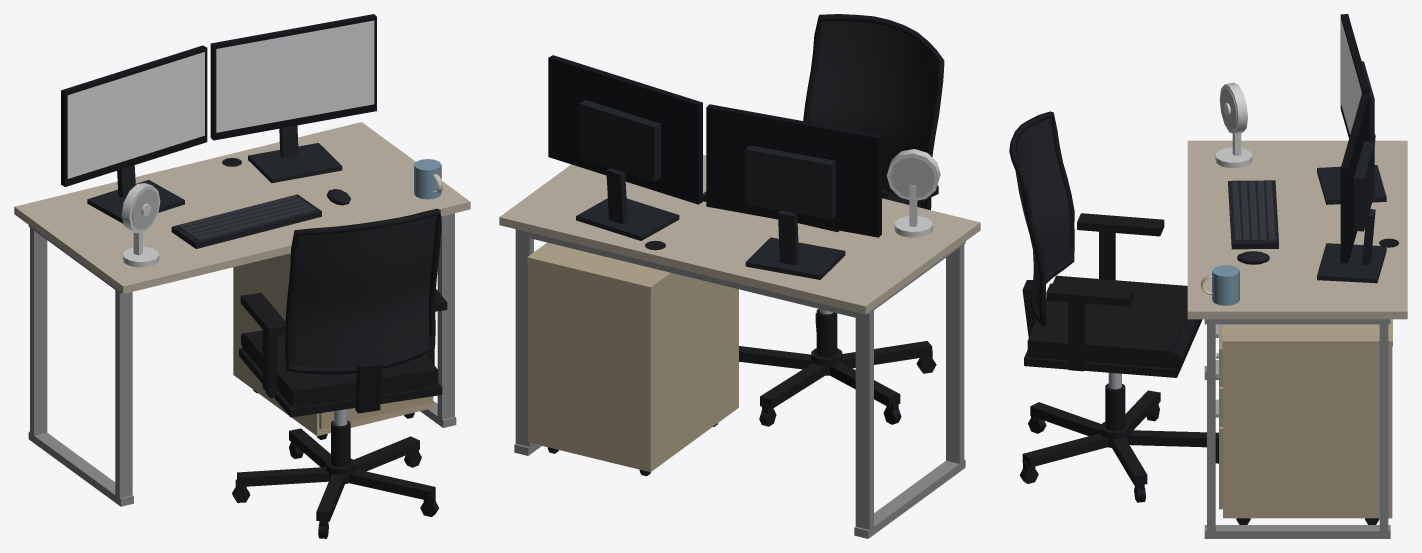
File: furn_desk_ops.glb
3 renders of one model, left to right at view 1: azimuth 30°, elevation 25°; view 2: azimuth 150°, elevation 25°; view 3: azimuth 270°, elevation 25°, orthographic. The views are drawn at different scales.
Parts seen in each view (by area): view 1: furn.desk_ops; view 2: furn.desk_ops; view 3: furn.desk_ops.
Boxes of the visible parts, <box> form: furn.desk_ops: <box>14,14,470,538</box>; furn.desk_ops: <box>499,14,980,538</box>; furn.desk_ops: <box>1009,14,1407,538</box>.
Size of the model in its own units: 1.2 by 1.19 by 1.18.
